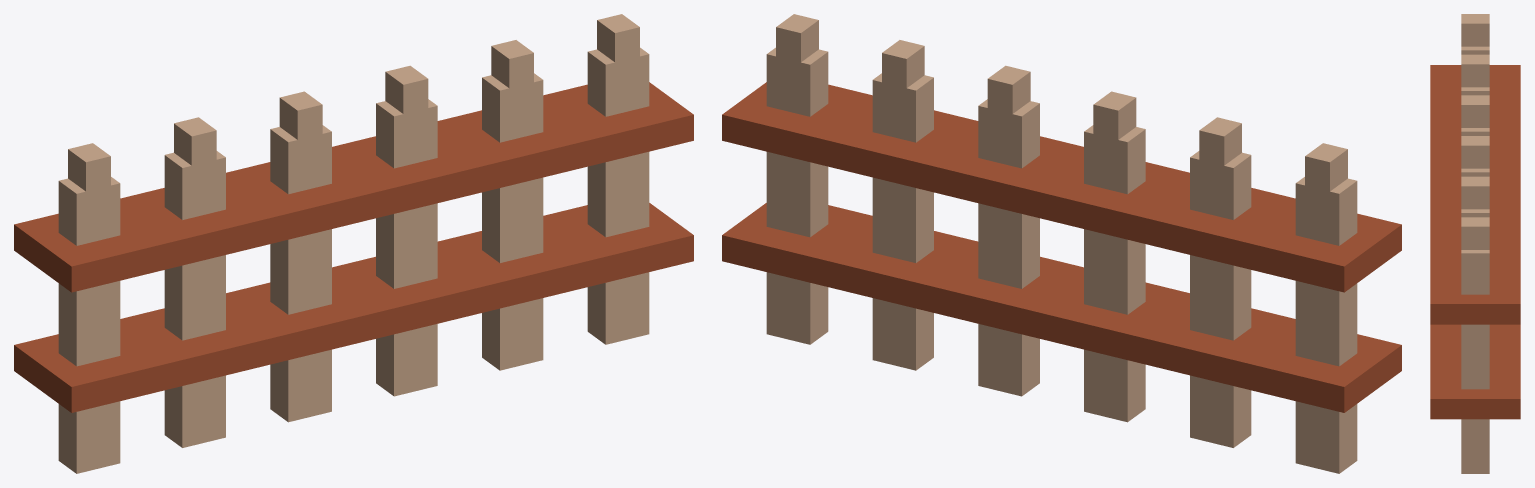
Rendered from ncb-picket-tile.glb.
The picture shows the model from 3 angles, left to right: view 1: azimuth 30°, elevation 25°; view 2: azimuth 150°, elevation 25°; view 3: azimuth 270°, elevation 25°; orthographic projection. The views are drawn at different scales.
Visible parts, largest first — view 1: box-prop; view 2: box-prop; view 3: box-prop.
Part boxes in pixels (<box>): box-prop: <box>14,14,693,473</box>; box-prop: <box>722,14,1401,473</box>; box-prop: <box>1430,14,1520,473</box>.
Bounding box in the file's own units: 2 × 0.95 × 0.32.
